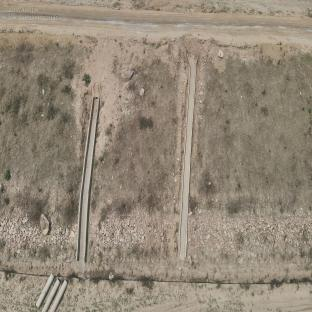rock_toe: (189, 206, 312, 264), (87, 214, 179, 258), (0, 216, 78, 262)
slope_drain: (76, 94, 100, 272), (178, 55, 198, 260)
toe_drain: (2, 260, 312, 287)
